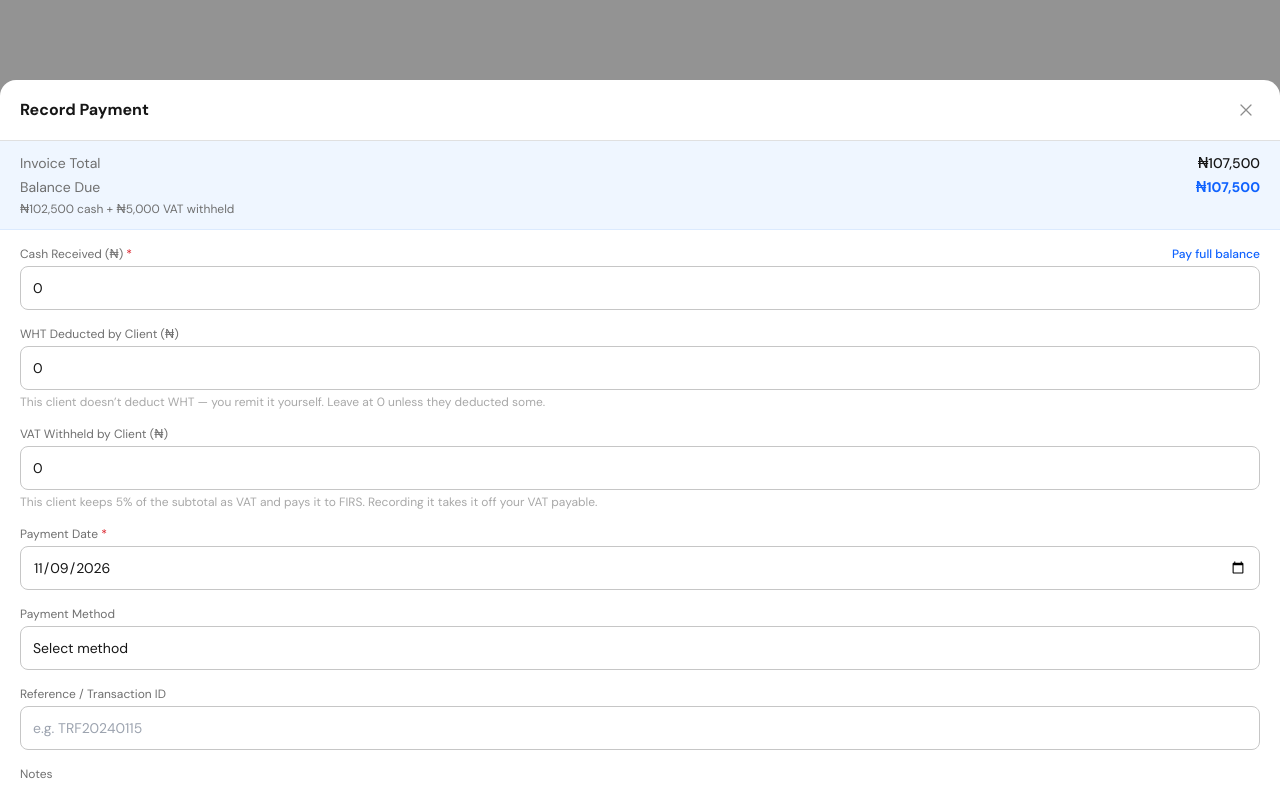
it: RecordPaymentSheet › scenario B: 5% of subtotal withheld as VAT — ₦102,500 cash + ₦5,000 VAT
Replace the text in the number field labelled "Cash Received (₦) *" with "102500": (640, 288) [20, 266, 1260, 310]
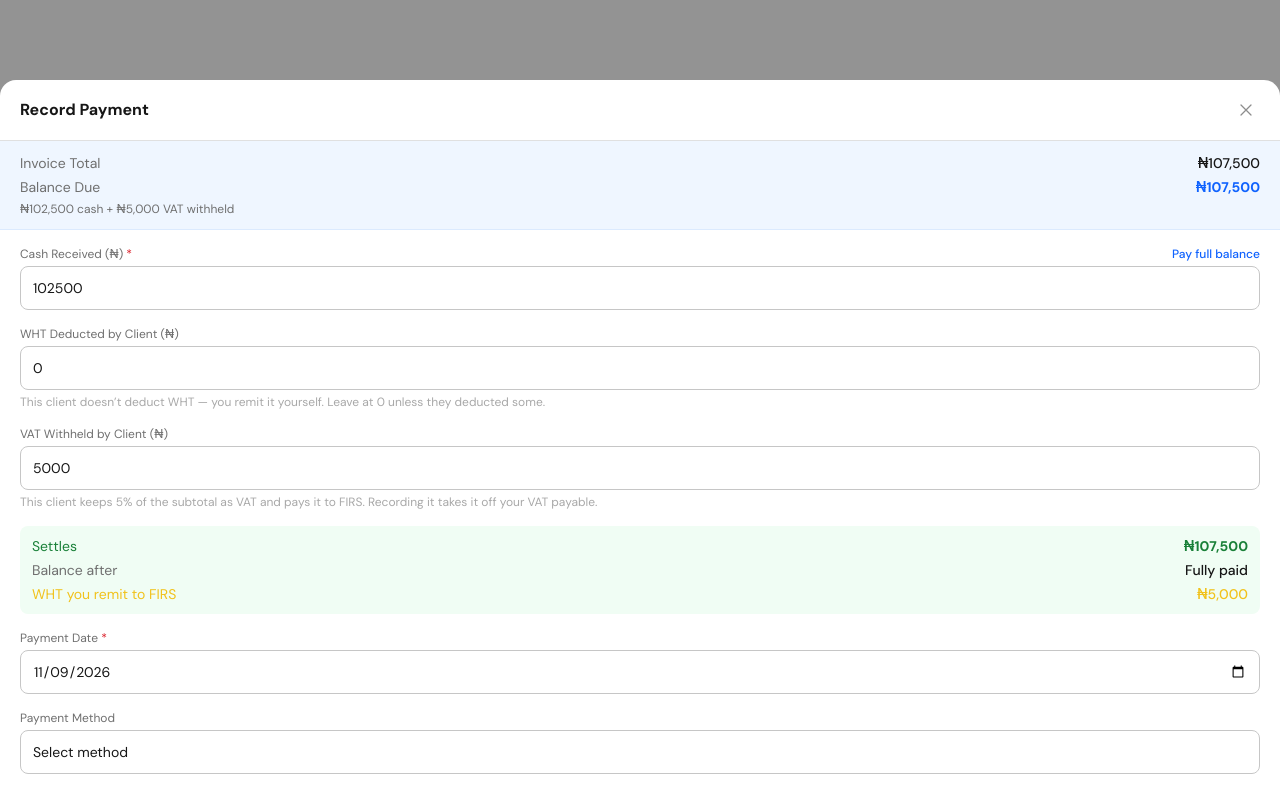
Expected: the number field labelled "WHT Deducted by Client (₦)" holds "0", [20, 346, 1260, 390]
Result: the number field labelled "VAT Withheld by Client (₦)" holds "5000" at [20, 446, 1260, 490]
